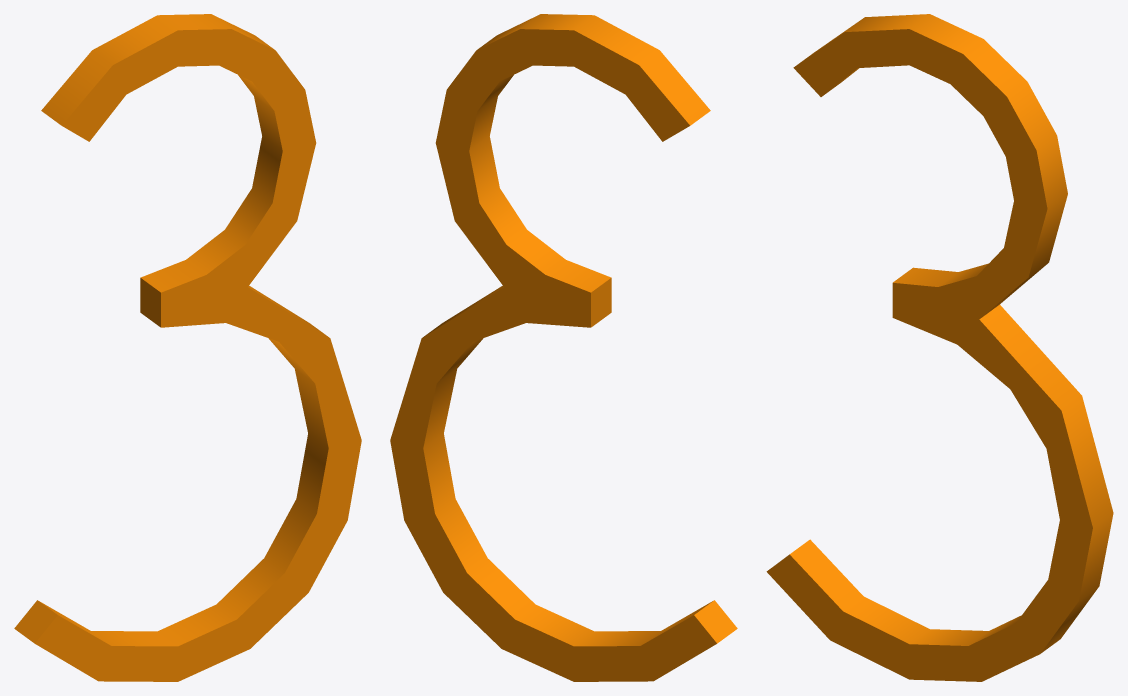
The picture shows the model from 3 angles, left to right: view 1: azimuth 30°, elevation 25°; view 2: azimuth 150°, elevation 25°; view 3: azimuth 330°, elevation 25°; orthographic projection.
Visible parts, largest first — view 1: 3; view 2: 3; view 3: 3.
Boxes of the visible parts, <box> form: 3: <box>14,14,361,681</box>; 3: <box>390,14,737,681</box>; 3: <box>766,14,1113,681</box>.
Size of the model in its own units: 45.88 by 87.35 by 5.
